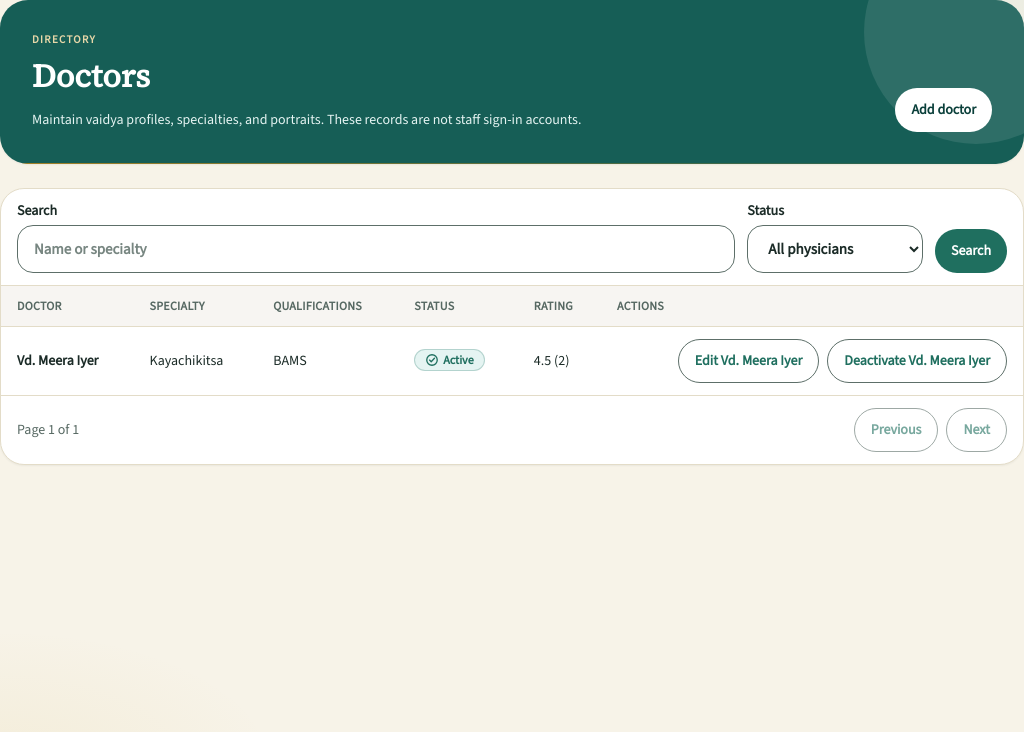
Test case: DoctorsPage › blocks an incomplete doctor form
expect the text "Vd. Meera Iyer" is shown: met, box [17, 351, 98, 370]
Click the button "Add doctor": (944, 110) [896, 88, 992, 132]
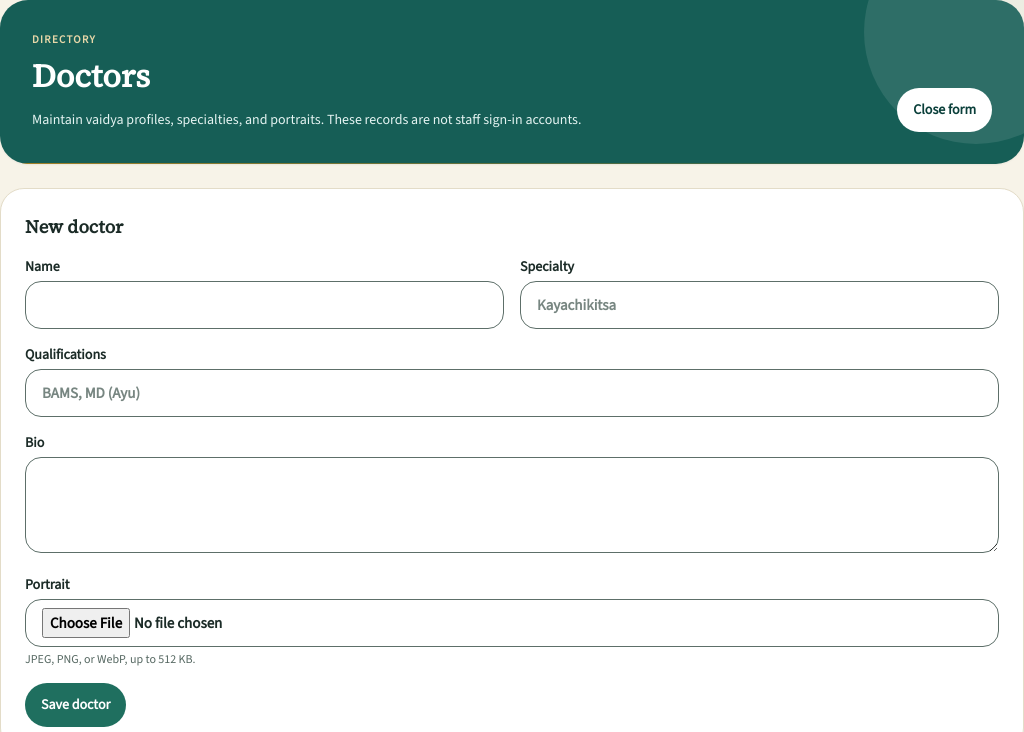
Click the button "Save doctor": (76, 705) [25, 683, 126, 727]
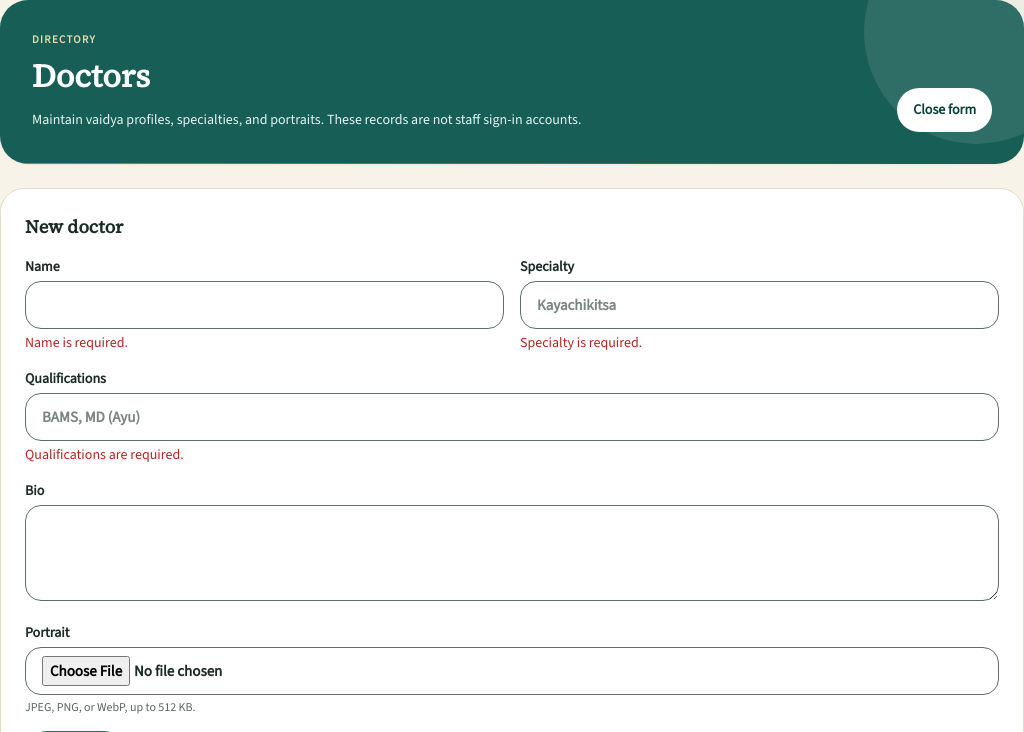
expect the text "Name is required." is shown: met, box [25, 333, 128, 352]
expect the text "Specialty is required." is shown: met, box [520, 333, 642, 352]
expect the text "Qualifications are required." is shown: met, box [25, 445, 184, 464]
